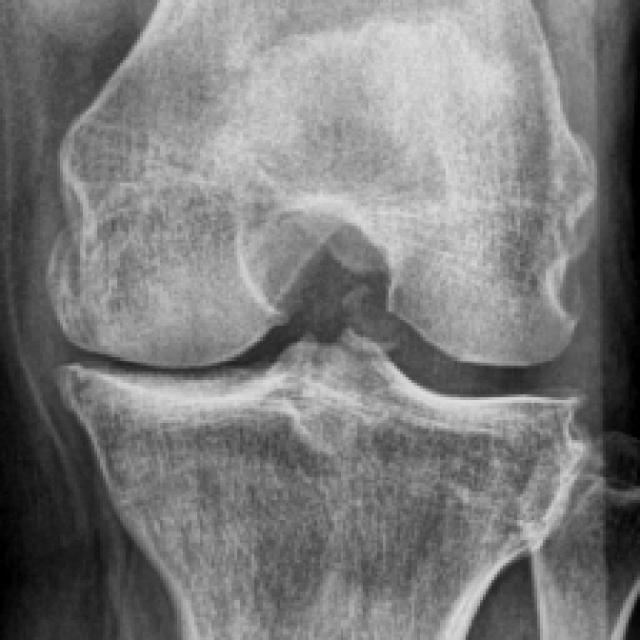femur: (45, 1, 595, 369)
tibia: (66, 331, 592, 637)
